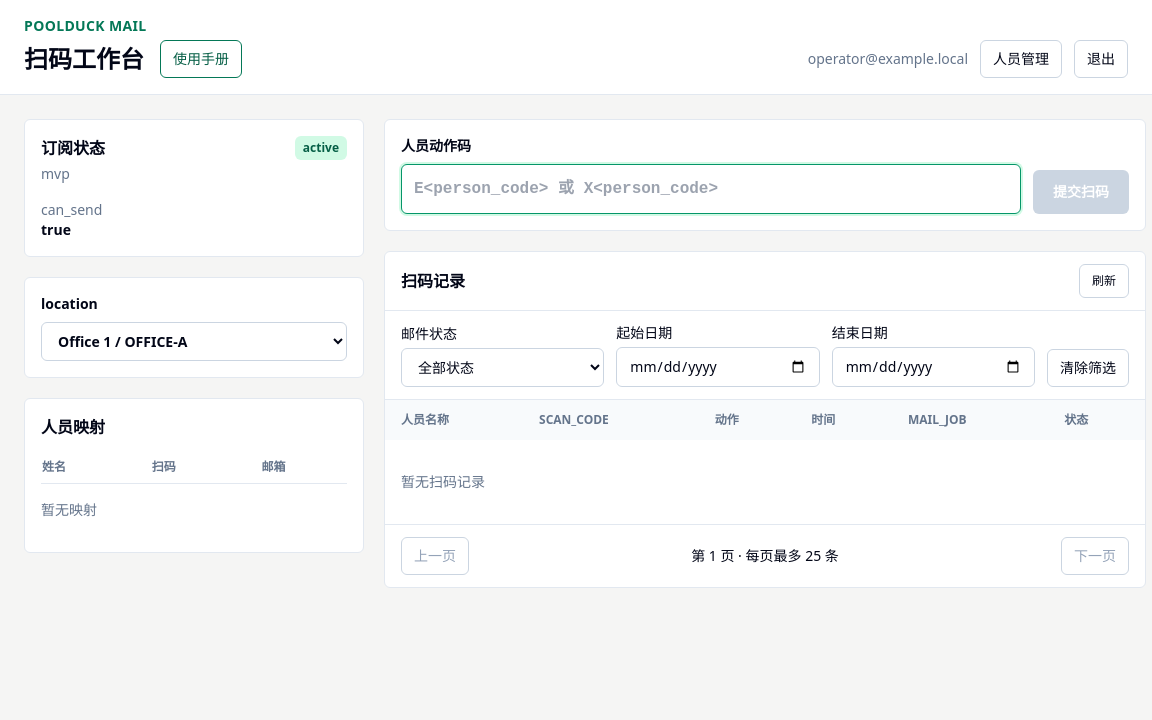
Scenario: history workspace › does not query an inverted date range and shows a permission error for forbidden history
Check: the text "暂无扫码记录" is shown, box [401, 472, 485, 491]
In the date field with test id "history-from-filter": [718, 367] box [616, 347, 820, 387], type "2026-07-03"
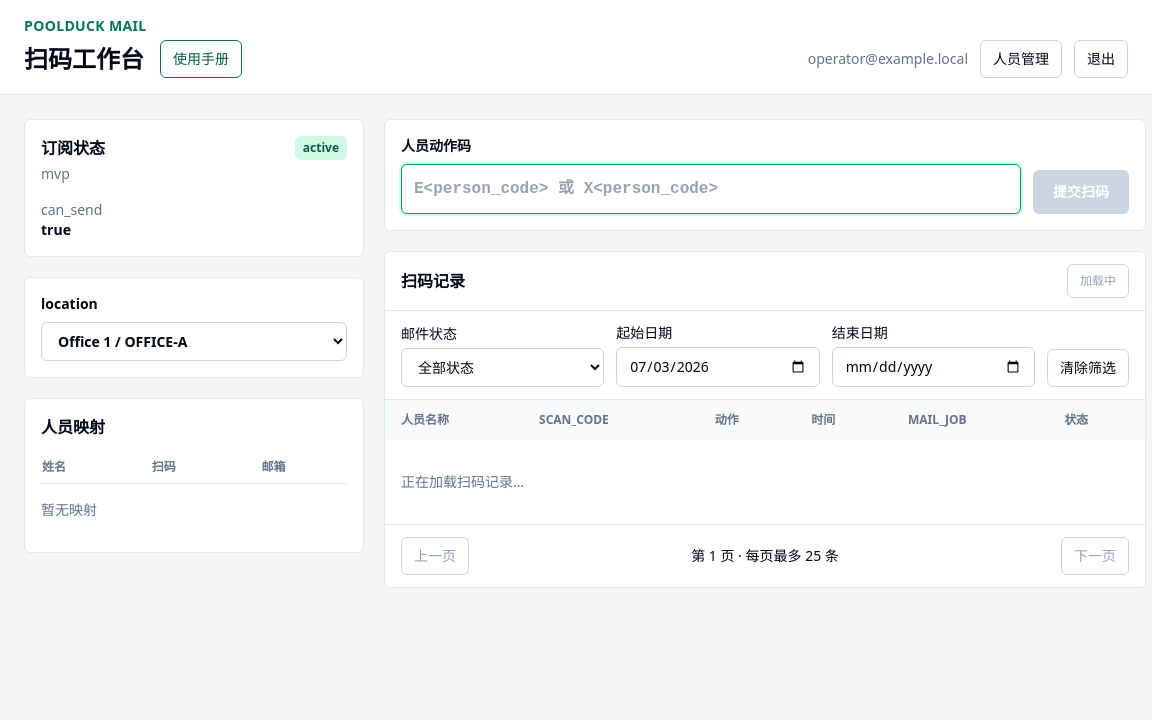
In the date field with test id "history-to-filter": [933, 367] box [832, 347, 1035, 387], type "2026-07-01"
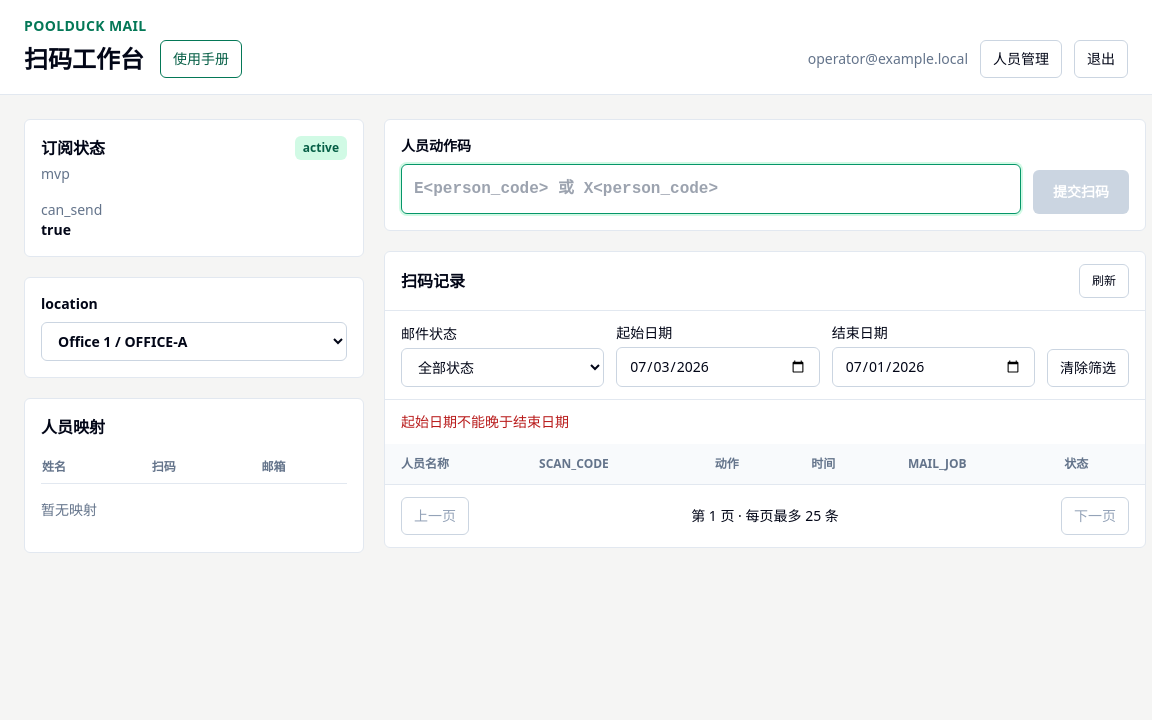
Check: the message reads "起始日期不能晚于结束日期", box [401, 412, 569, 431]
In the date field with test id "history-to-filter": [933, 367] box [832, 347, 1035, 387], type "2026-07-04"
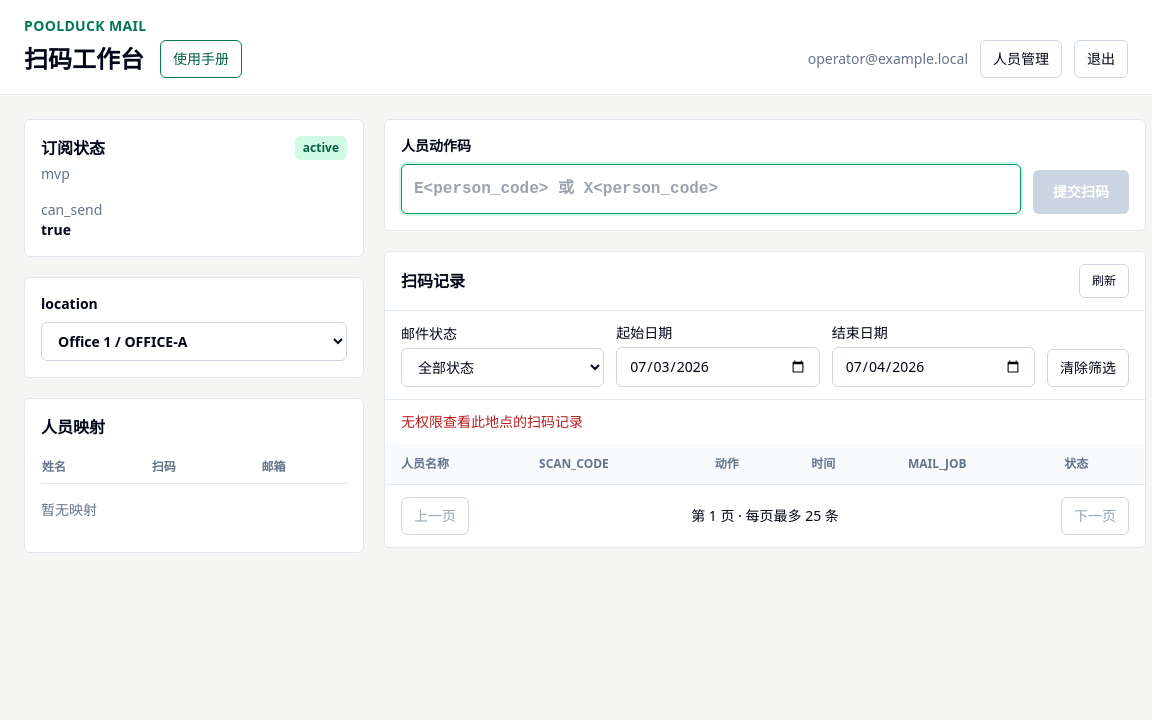
Check: the text "无权限查看此地点的扫码记录" is shown, box [401, 412, 583, 431]
